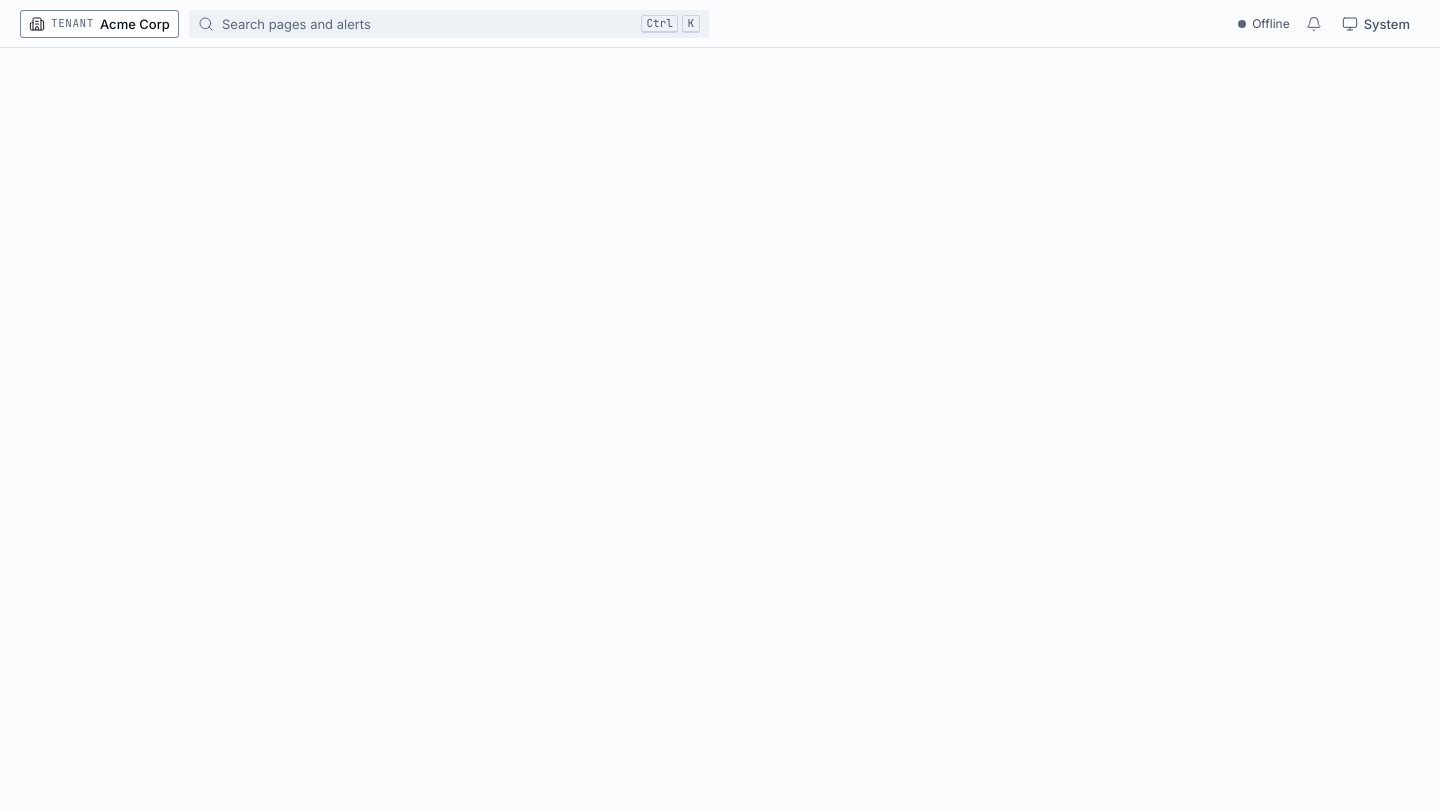
Test: Notifications › says so when nothing needs an act
Click the button named "Notifications: nothing needs you" at (1314, 24), box [1300,10,1328,38]
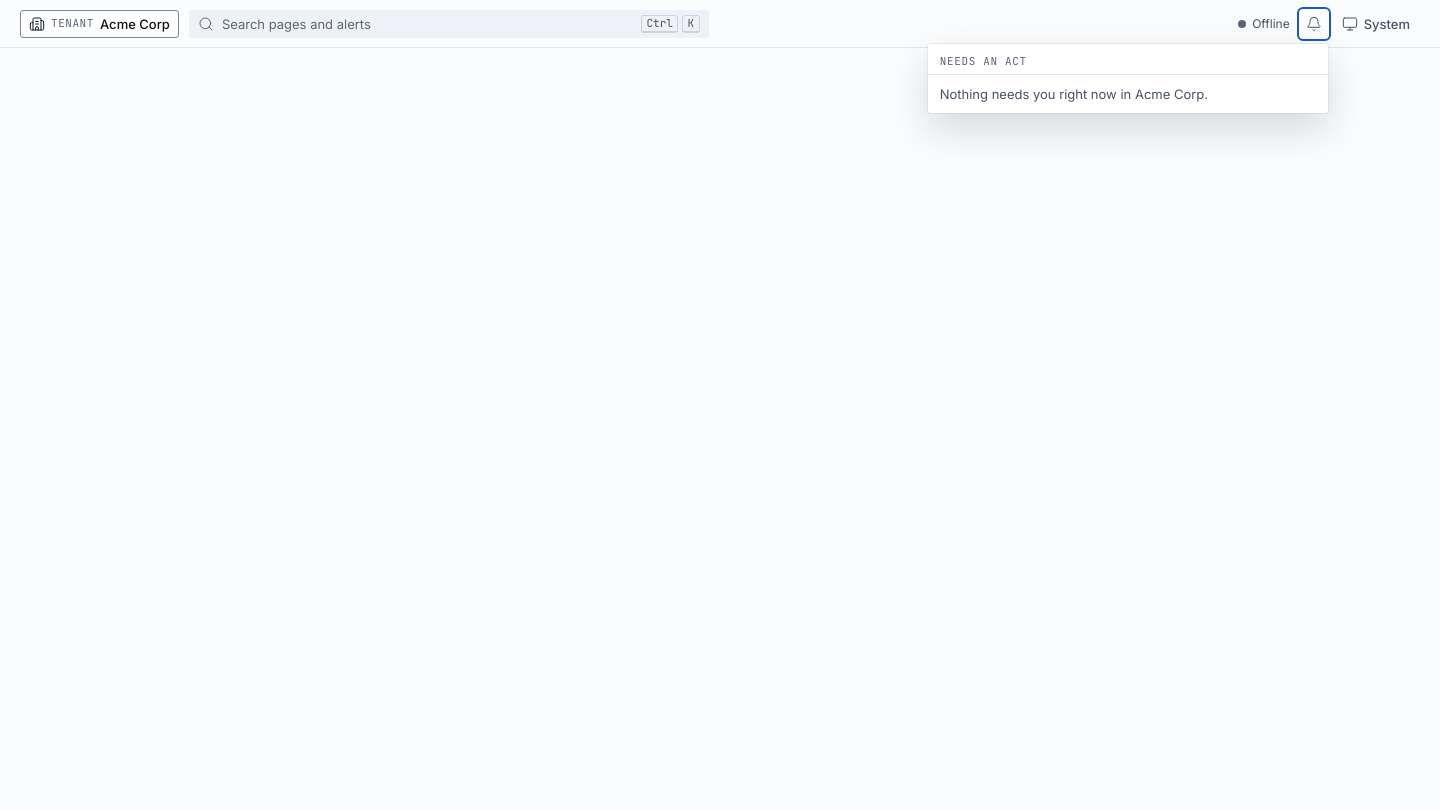
Now the dialog named "Notifications" shows "Nothing needs you right now in Acme Corp.", box [928,44,1328,112]
Click the button named "Notifications: nothing needs you" at (1314, 24), box [1300,10,1328,38]
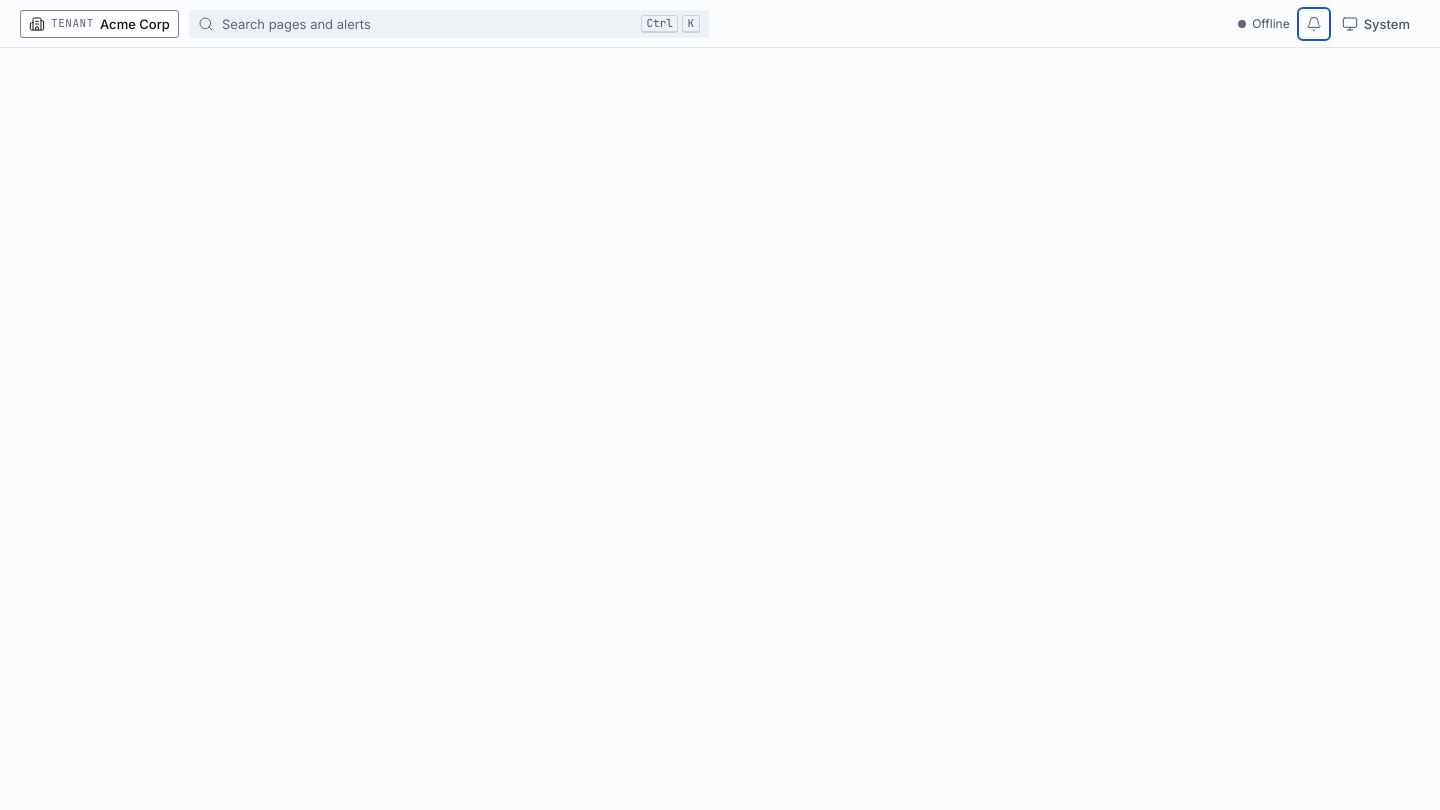
Now the dialog is gone
